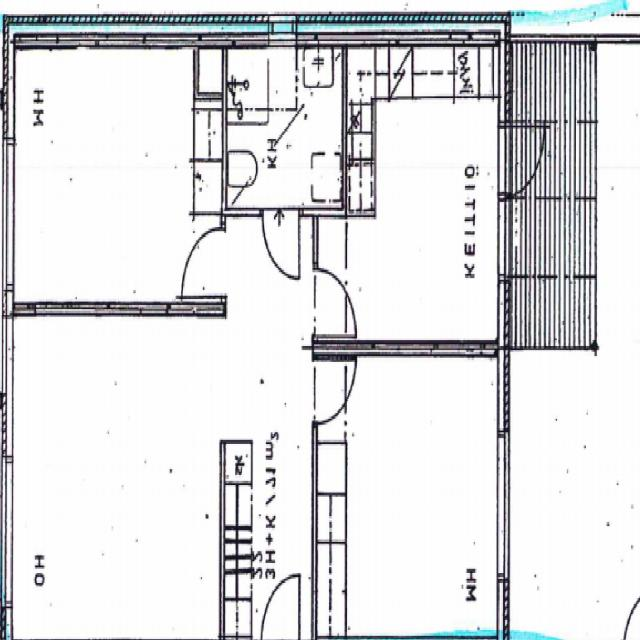door: (499, 126, 548, 194), (183, 228, 227, 297), (312, 358, 354, 424), (312, 270, 354, 336), (262, 208, 299, 280), (260, 575, 298, 640), (624, 579, 640, 640)
